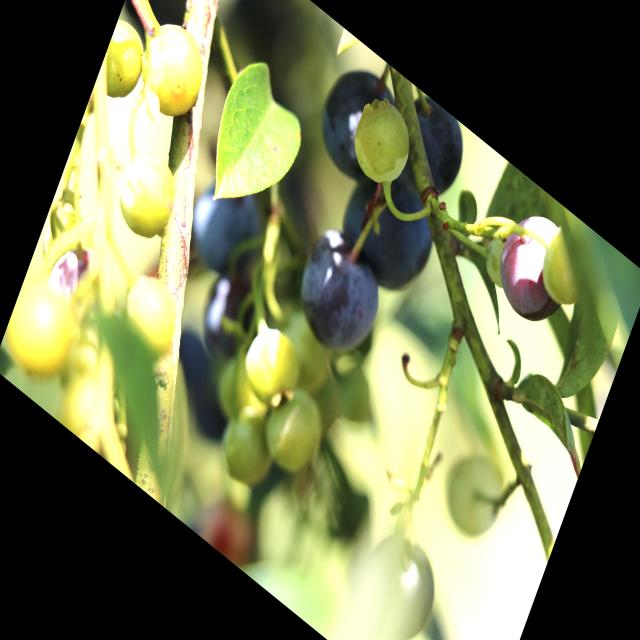blueberry: (331, 143, 445, 305), (289, 222, 390, 368), (488, 195, 583, 341), (309, 53, 403, 196), (386, 84, 477, 209), (183, 158, 269, 284)
blueberry-unripe: (356, 514, 448, 640), (134, 7, 214, 129), (236, 312, 308, 420), (260, 372, 330, 482), (113, 261, 185, 367), (113, 140, 183, 248), (441, 438, 512, 544), (94, 14, 154, 115), (216, 397, 278, 487)
